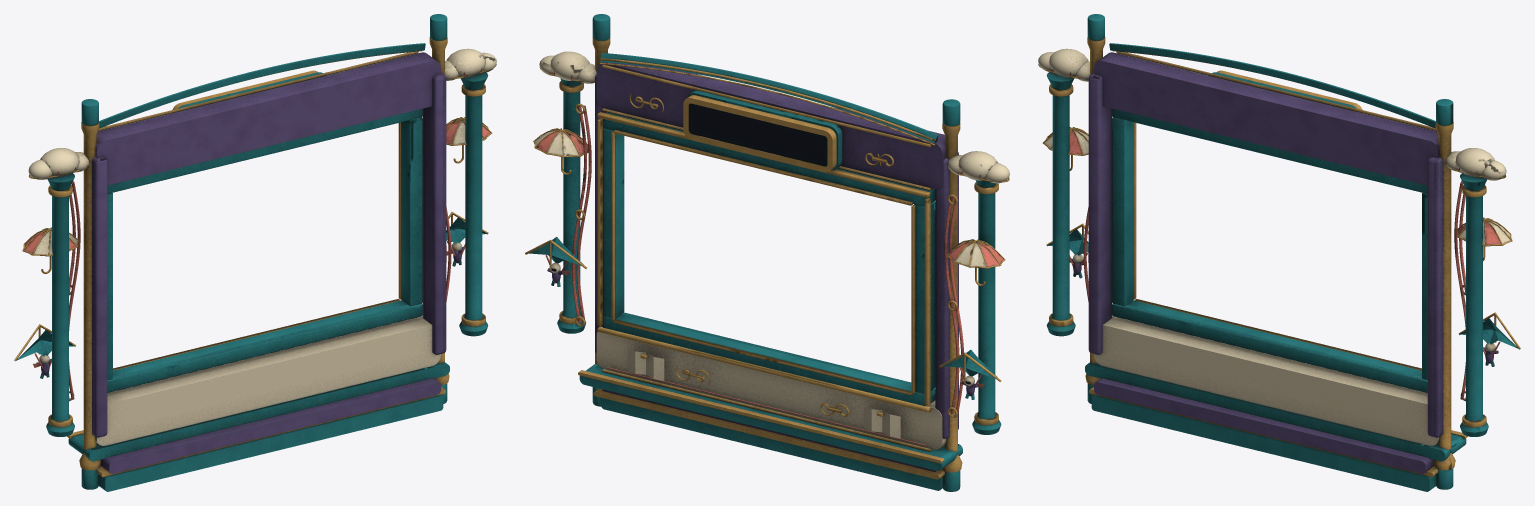
3 views of the same model, side by side, from view 1: azimuth 30°, elevation 25°; view 2: azimuth 150°, elevation 25°; view 3: azimuth 330°, elevation 25° (orthographic).
Parts seen in each view (by area): view 1: Teal_enamel, Violet_lacquer, Ivory_woven_sailcloth, Satin_brass, Coral_guide_rope; view 2: Teal_enamel, Satin_brass, Violet_lacquer, Ivory_woven_sailcloth, Coral_guide_rope, Uniform_dark_inset; view 3: Teal_enamel, Violet_lacquer, Ivory_woven_sailcloth, Satin_brass, Coral_guide_rope.
Part boxes in pixels (left/top/right/bottom): Teal_enamel: left=16, top=14, right=488, bottom=491; Violet_lacquer: left=36, top=52, right=464, bottom=473; Ivory_woven_sailcloth: left=28, top=48, right=496, bottom=445; Satin_brass: left=14, top=37, right=496, bottom=477; Coral_guide_rope: left=24, top=68, right=490, bottom=400; Teal_enamel: left=529, top=14, right=1001, bottom=491; Satin_brass: left=525, top=37, right=1009, bottom=479; Violet_lacquer: left=547, top=62, right=977, bottom=471; Ivory_woven_sailcloth: left=535, top=51, right=1009, bottom=449; Coral_guide_rope: left=536, top=71, right=1003, bottom=446; Uniform_dark_inset: left=551, top=103, right=970, bottom=383; Teal_enamel: left=1046, top=14, right=1518, bottom=491; Violet_lacquer: left=1071, top=52, right=1498, bottom=473; Ivory_woven_sailcloth: left=1038, top=48, right=1510, bottom=445; Satin_brass: left=1038, top=37, right=1520, bottom=477; Coral_guide_rope: left=1047, top=68, right=1500, bottom=400.
Size of the model in its own units: 10.97 by 8.5 by 1.2.
Materials: 6 (6 with a texture image).
